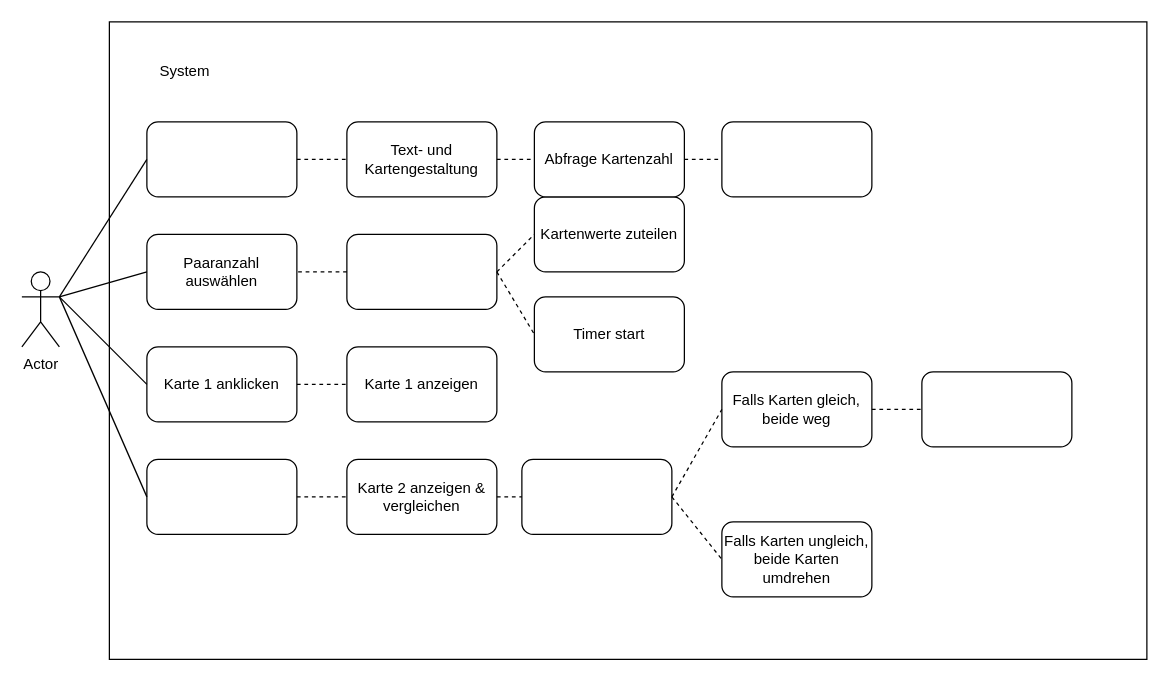
The diagram is 1169 pixels wide and 681 high, and some of its shapes have lost their labels. The shapes that lost their labels are listed below. From the top down, each one's centre as x and y in pixels, then its label:
At point (221, 159): "Layout".
At point (796, 159): "Start".
At point (421, 271): "Feld wird vorbereitet".
At point (996, 409): "Wenn alle Karten weg => Hooray und Zeit anzeigen".
At point (221, 496): "Karte 2 anklicken".
At point (596, 496): "2 Sekunden warten und Interaktion blockieren".
